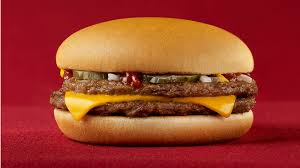hamburger: (51, 15, 255, 142)
